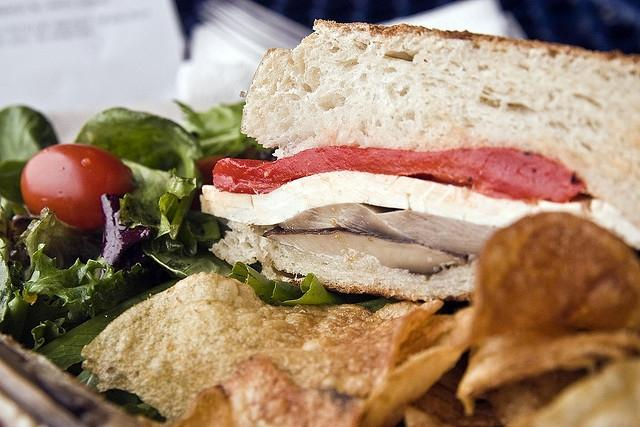lettuce: (36, 278, 181, 370), (118, 158, 232, 258), (74, 107, 207, 189), (14, 206, 106, 280), (172, 98, 279, 159), (1, 106, 58, 203), (226, 261, 348, 306), (24, 244, 106, 306), (142, 241, 234, 279), (0, 283, 30, 342), (168, 188, 196, 239), (0, 194, 28, 222)
